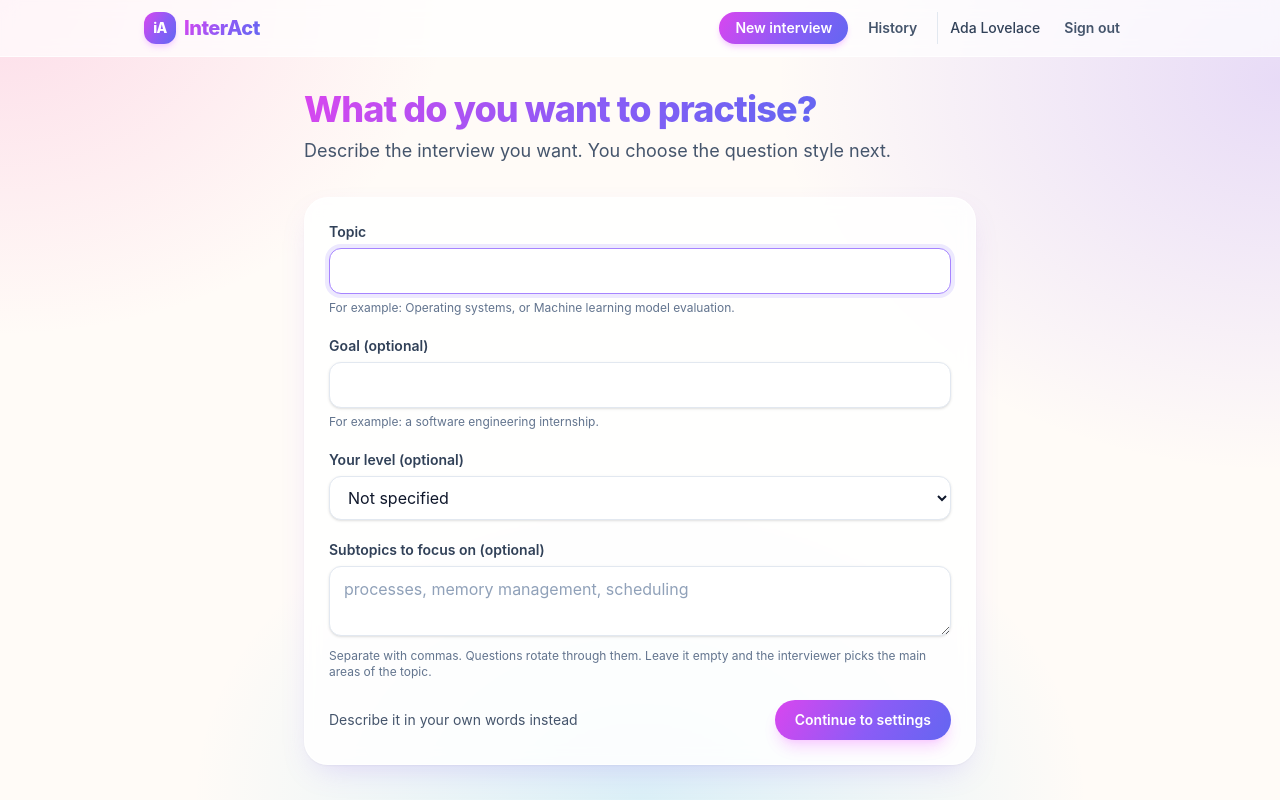
Test: topic form page › creates the session, saves the topic and moves to settings
Type "Operating systems" into the field labelled "Topic".
click(640, 271); type("Operating systems")  # box [329,248,951,294]
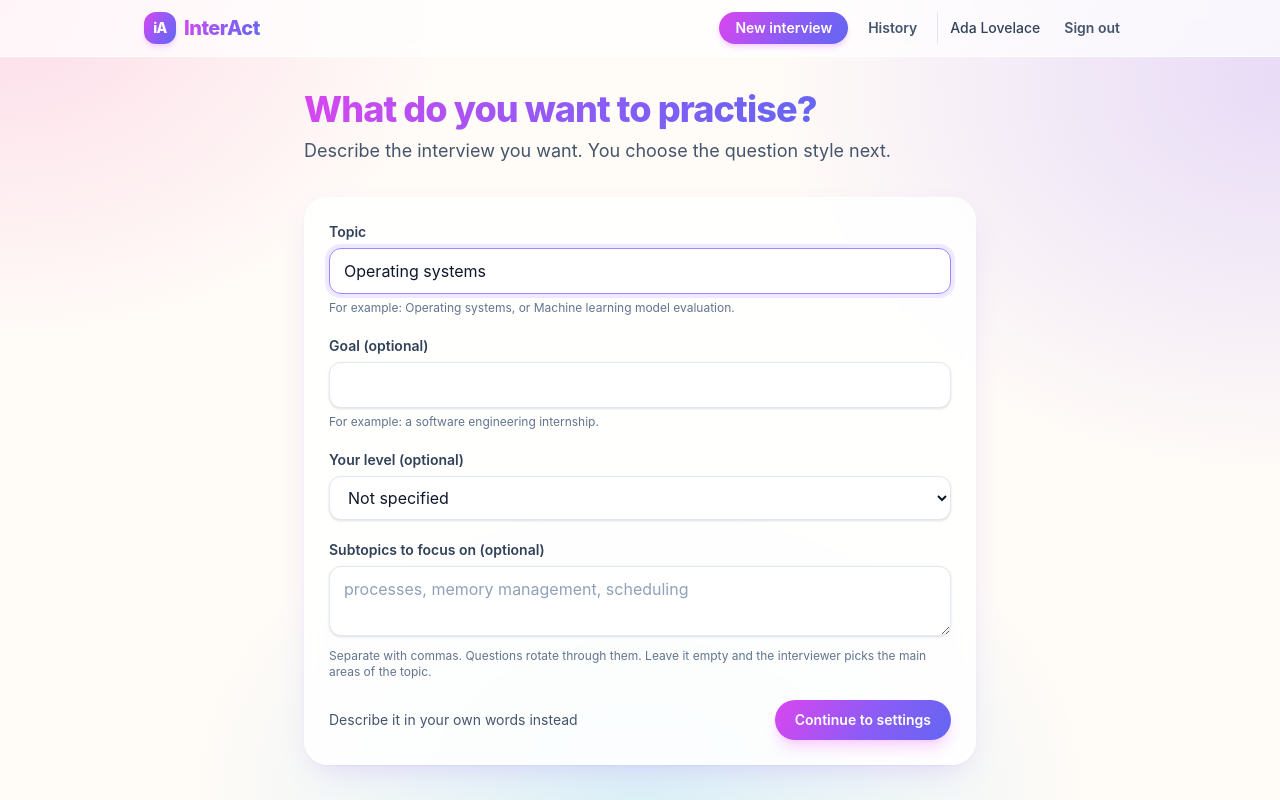
Type "internship" into the field labelled "Goal (optional)".
click(640, 385); type("internship")  # box [329,362,951,408]
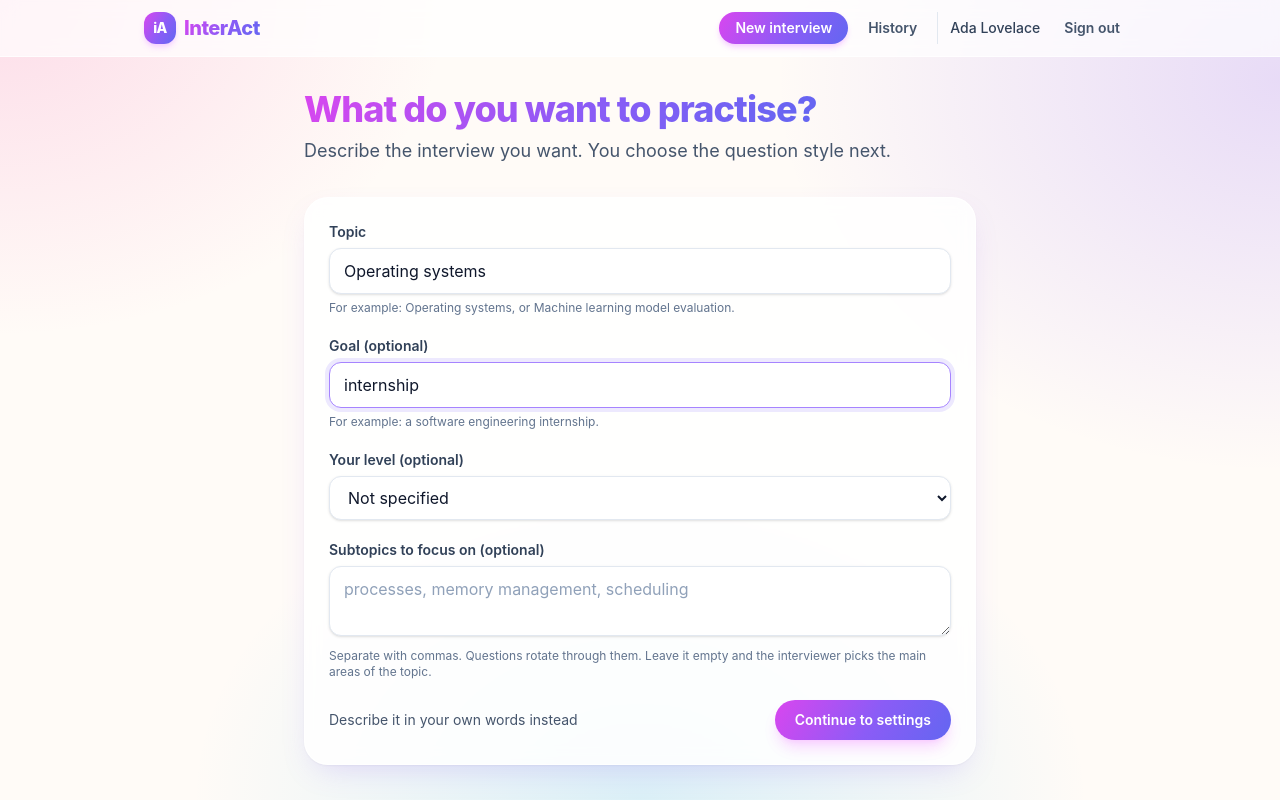
Select "Beginner" in the dropdown labelled "Your level (optional)" at point(640, 498), box [329,476,951,520]
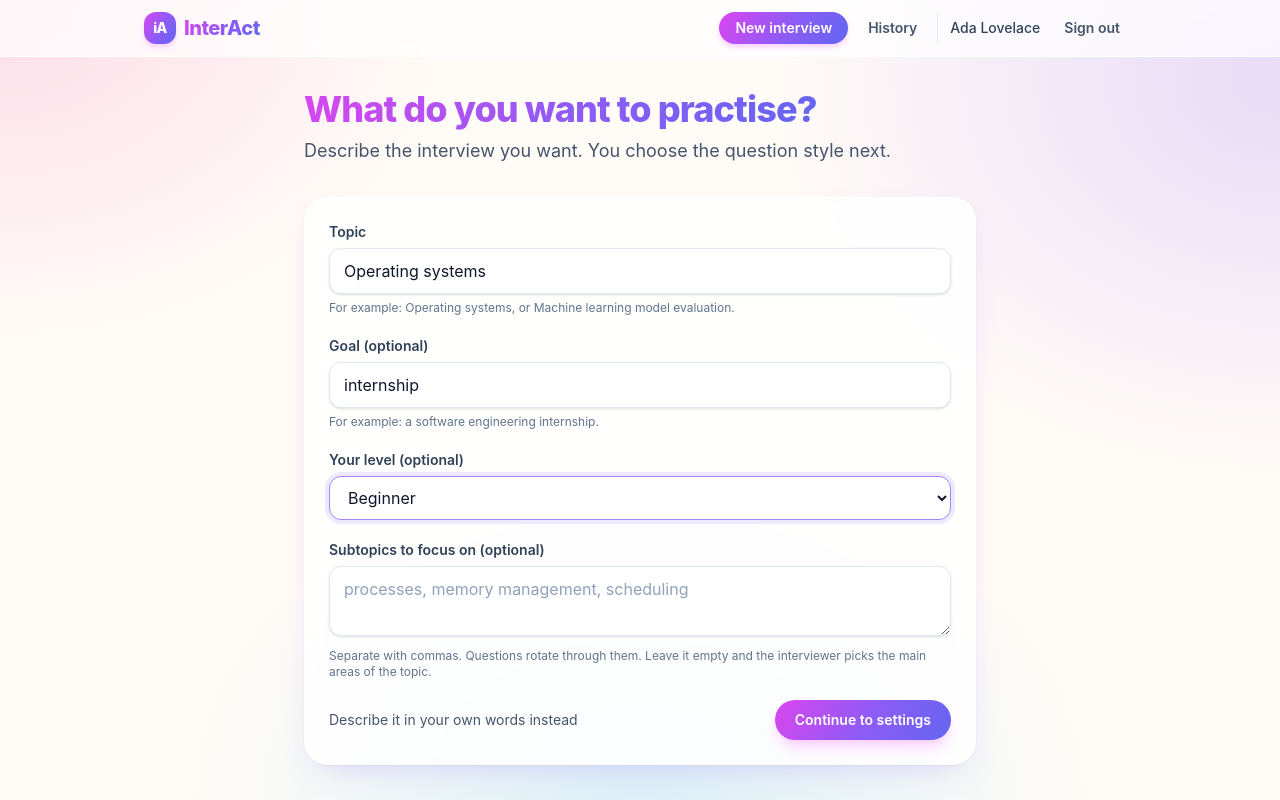
Type "processes, memory" into the text box labelled "Subtopics to focus on (optional)".
click(640, 601); type("processes, memory")  # box [329,566,951,636]
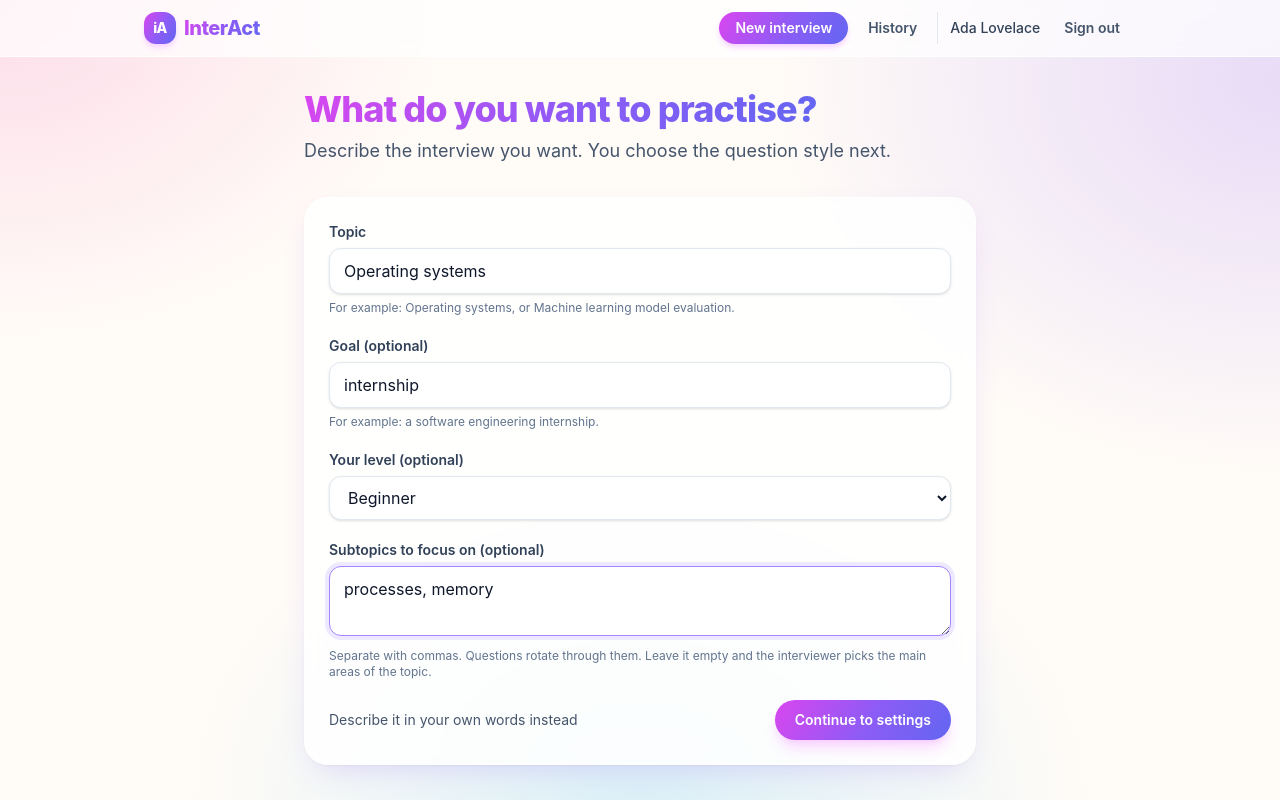
Click the button "Continue to settings".
click(863, 720)  # box [775,700,951,740]
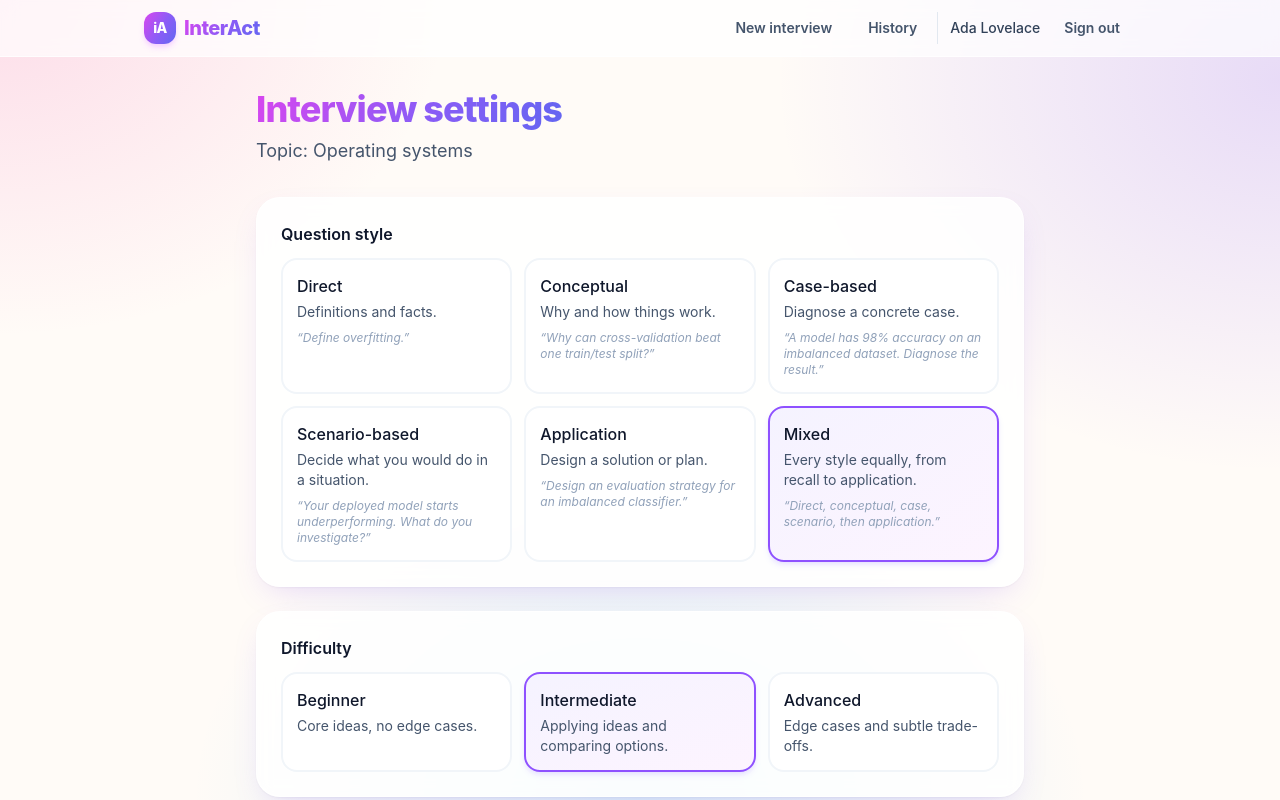
Expected: the heading "Interview settings" is shown, [256,87,562,131]
